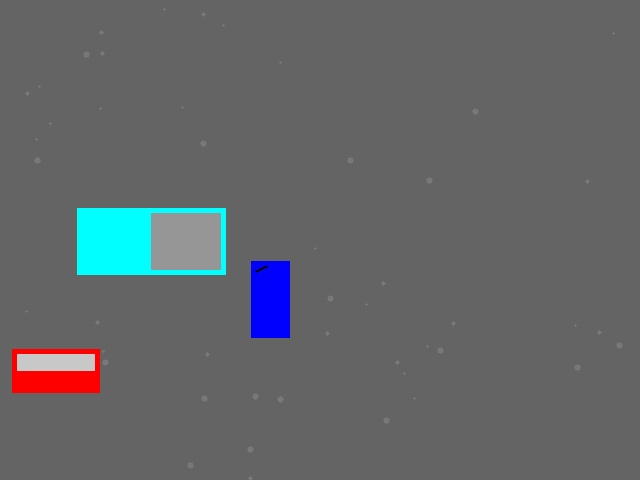car: (12, 349, 99, 392)
motorcycle: (251, 261, 289, 337)
truck: (77, 208, 225, 274)
